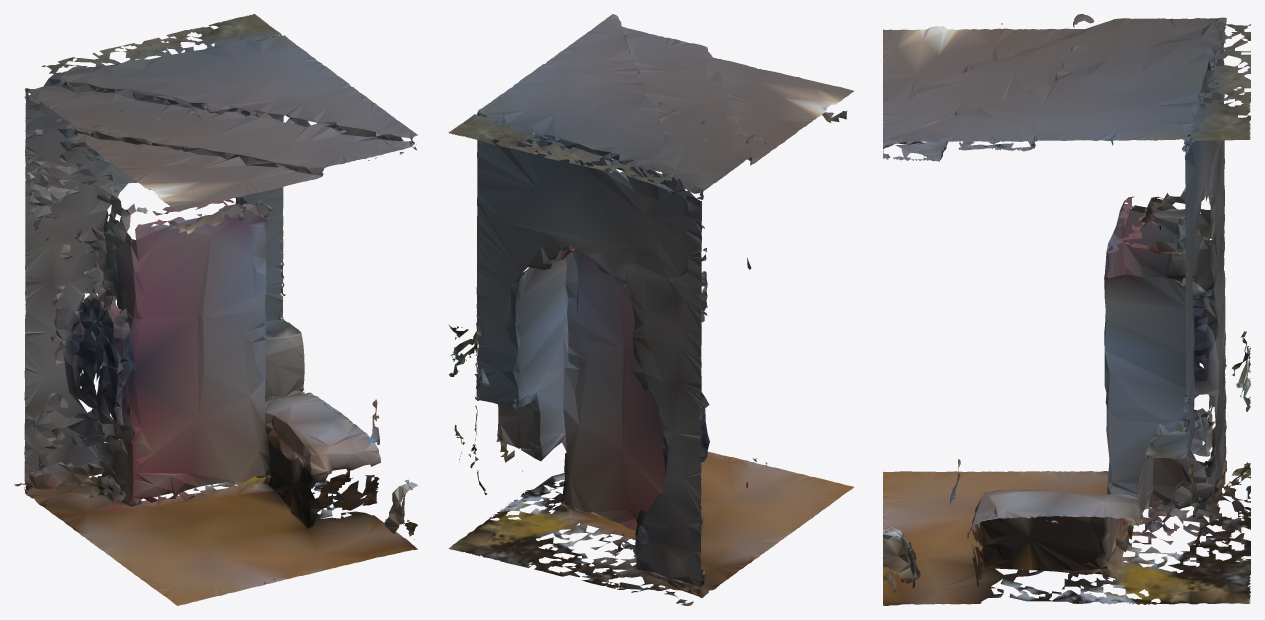
File: coarse.glb
The picture shows the model from 3 angles, left to right: view 1: azimuth 30°, elevation 25°; view 2: azimuth 150°, elevation 25°; view 3: azimuth 270°, elevation 25°; orthographic projection. The views are drawn at different scales.
Bounding box in the file's own units: 1.73 × 2.89 × 2.03.
